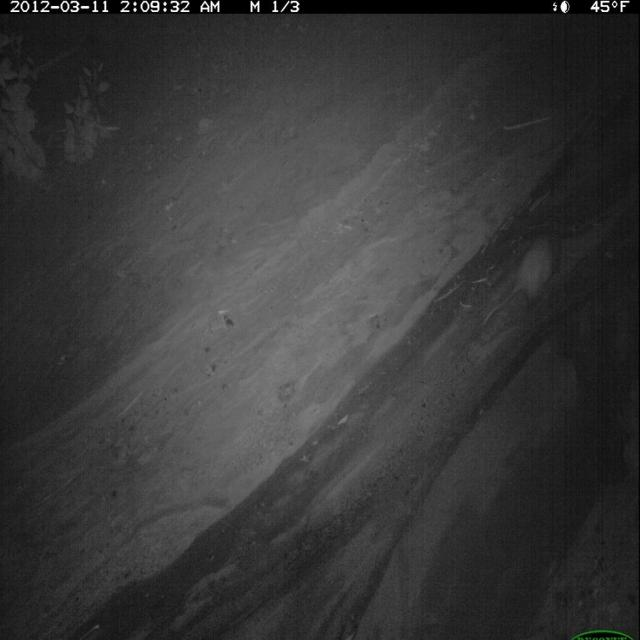opossum: (478, 219, 570, 332)
